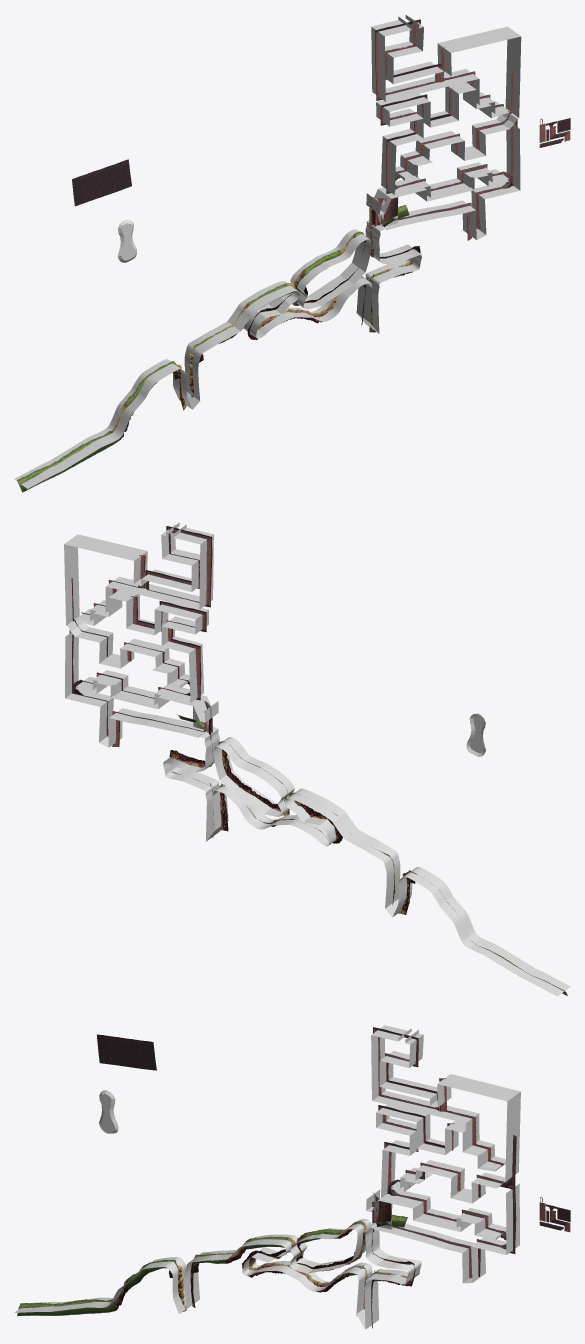
File: LVL 7 Test.FBX
3 renders of one model, top to bottom at view 1: azimuth 30°, elevation 25°; view 2: azimuth 150°, elevation 25°; view 3: azimuth 330°, elevation 25°, orthographic.
Visible parts, largest first — view 1: LVL 7 Col, Griffin Tower, LVL7 GrassToRock, LVL 12 Dirt BG Pt 1_2, LVL 12 Black Pt 1_4; view 2: LVL 7 Col, Griffin Tower, LVL7 GrassToRock, LVL 12 Black Pt 1_4; view 3: LVL 7 Col, Griffin Tower, LVL7 GrassToRock, LVL 12 Dirt BG Pt 1_2, LVL 12 Black Pt 1_4, LVL 7 Cliff.
Boxes of the visible parts, x1,y1,x2,y2 form: LVL 7 Col: (14,15,521,488); Griffin Tower: (374,19,570,240); LVL7 GrassToRock: (17,205,420,492); LVL 12 Dirt BG Pt 1_2: (72,159,131,206); LVL 12 Black Pt 1_4: (117,219,136,262); LVL 7 Col: (64,522,570,996); Griffin Tower: (69,526,212,746); LVL7 GrassToRock: (169,714,567,995); LVL 12 Black Pt 1_4: (466,713,485,756); LVL 7 Col: (14,1025,520,1329); Griffin Tower: (373,1027,570,1278); LVL7 GrassToRock: (17,1214,415,1328); LVL 12 Dirt BG Pt 1_2: (96,1034,156,1070); LVL 12 Black Pt 1_4: (99,1090,118,1133); LVL 7 Cliff: (169,1254,200,1311).
Bounding box in the file's own units: 16204 × 1161 × 10541.
